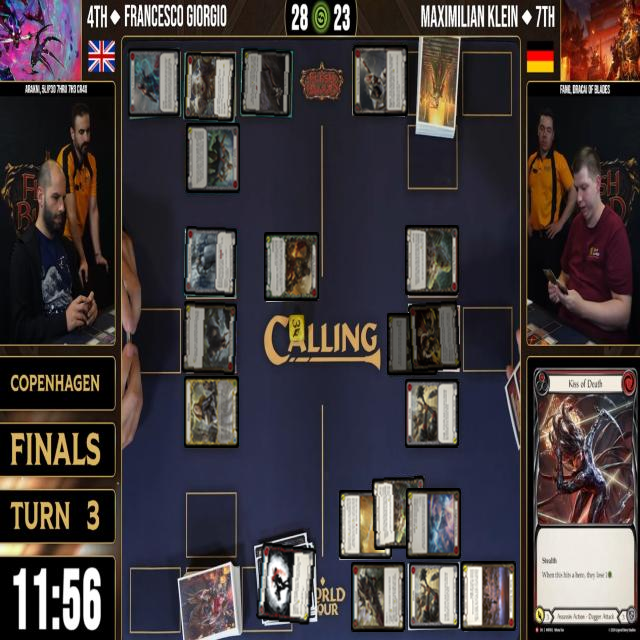Alpha_Rampage_WTR006: (264, 233, 320, 302)
Awakening_Bellow_WTR032: (406, 226, 460, 296)
Awakening_Bellow_WTR034: (372, 476, 428, 551)
Barraging_Brawnhide_WTR178: (182, 302, 238, 376)
Blackout_Kick_WTR091: (256, 541, 316, 626)
Blessing_of_Deliverance_WTR056: (127, 47, 182, 119)
Dawnblade_WTR115: (339, 490, 393, 560)
Demolition_Crew_WTR180: (408, 301, 461, 374)
Disable_WTR048: (406, 379, 460, 449)
Disable_WTR049: (408, 561, 461, 631)
Dorinthea_WTR114: (184, 376, 239, 449)
Enlightened_Strike_WTR159: (406, 488, 462, 560)
Ironsong_Response_WTR133: (354, 45, 409, 117)
Primeval_Bellow_WTR036: (184, 51, 236, 124)
Pummel_WTR208: (351, 562, 406, 633)
Romping_Club_WTR003: (241, 47, 293, 119)
Scar_for_a_Scar_WTR193: (388, 314, 438, 376)
Scour_the_Battlescape_WTR195: (462, 561, 517, 632)
Spinal_Crush_WTR044: (186, 124, 241, 194)
Staunch_Response_WTR053: (184, 227, 237, 298)
